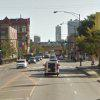Car: (12, 55, 41, 74)
